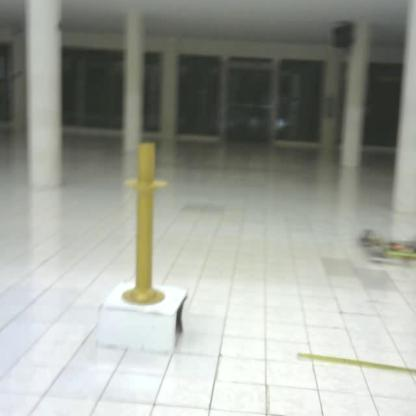pole: (122, 138, 172, 318)
